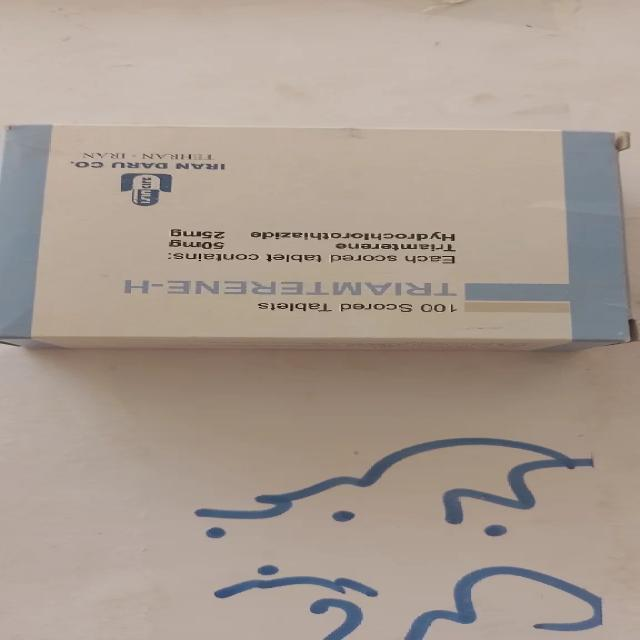drug-name: (120, 274, 454, 298)
